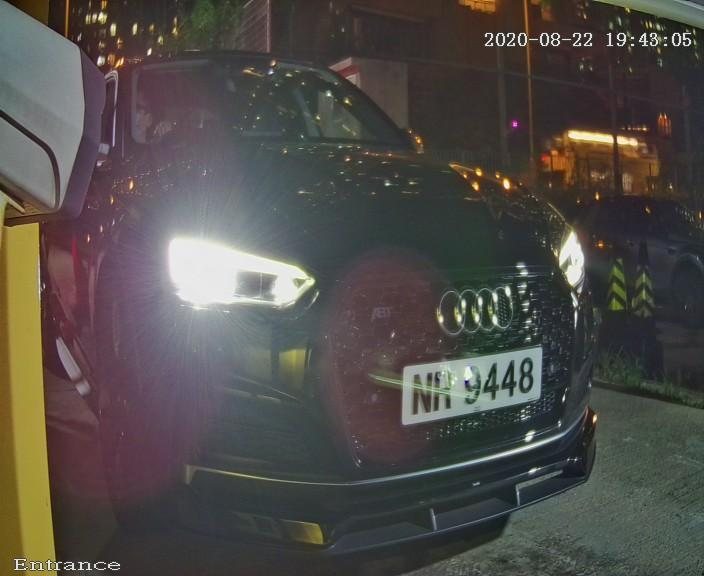Car: (13, 11, 657, 561)
License Plate: (368, 326, 581, 437)
